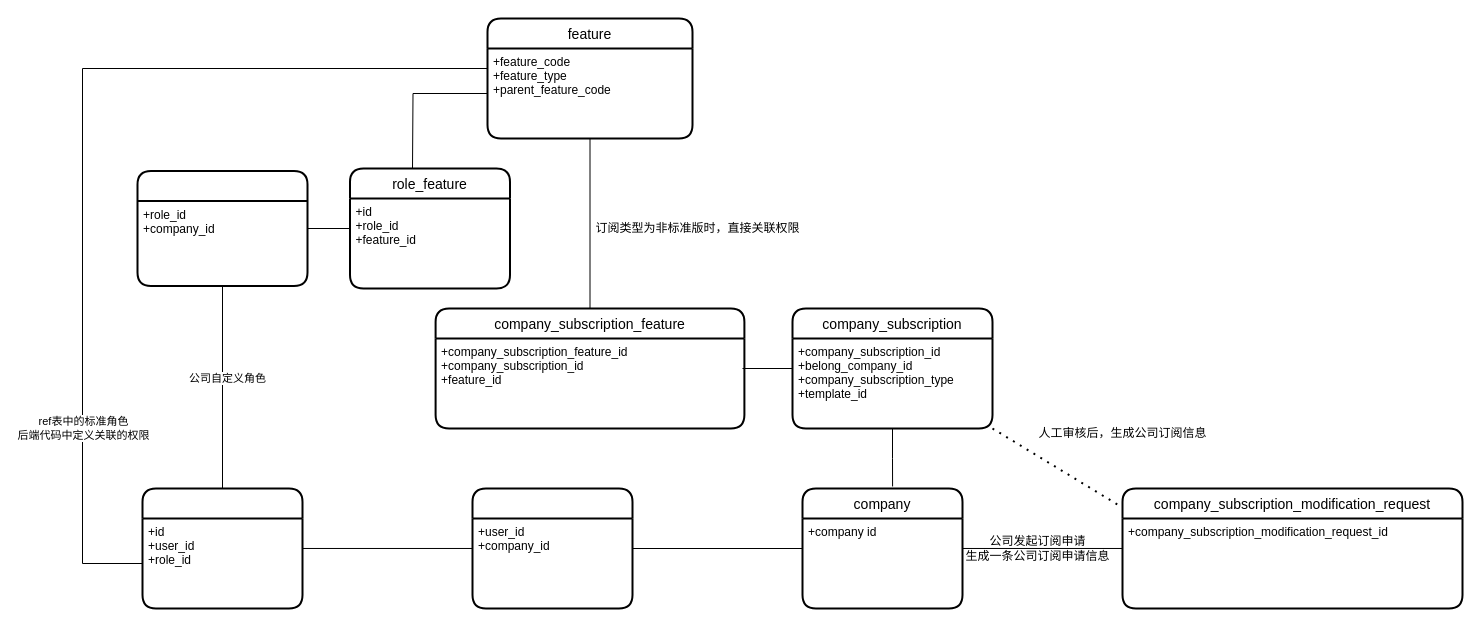
Some shapes in this 1481 by 626 pixel diagram are drawn without their labels. Each missing label, with the box of its shape:
company_custom_role: (136, 170, 308, 286)
company_user: (471, 487, 633, 609)
company_user_role: (141, 487, 303, 609)
